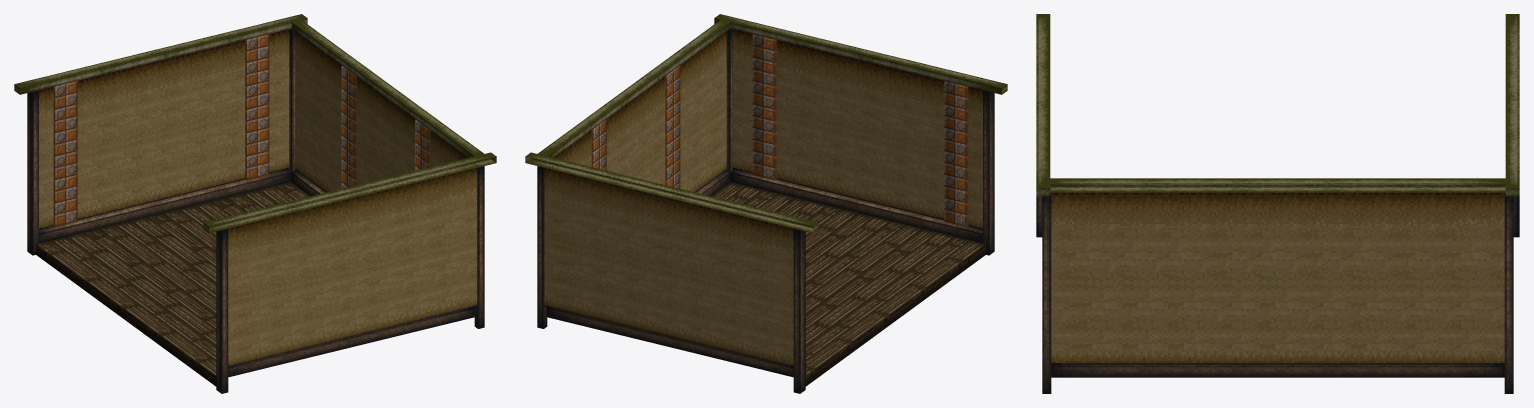
The model's file is EnvBdgMD_Sea_A_Indoor_House_E.FBX.
3 renders of one model, left to right at view 1: azimuth 30°, elevation 25°; view 2: azimuth 150°, elevation 25°; view 3: azimuth 270°, elevation 25°, orthographic. The views are drawn at different scales.
Parts seen in each view (by area): view 1: EnvBdgMD_Sea_A_Indoor_House_E; view 2: EnvBdgMD_Sea_A_Indoor_House_E; view 3: EnvBdgMD_Sea_A_Indoor_House_E.
Boxes of the visible parts, x1,y1,x2,y2 form: EnvBdgMD_Sea_A_Indoor_House_E: (14, 14, 496, 393); EnvBdgMD_Sea_A_Indoor_House_E: (525, 14, 1007, 393); EnvBdgMD_Sea_A_Indoor_House_E: (1036, 14, 1519, 393).
Size of the model in its own units: 900 by 510 by 1055.
1 material, 1 textured.
